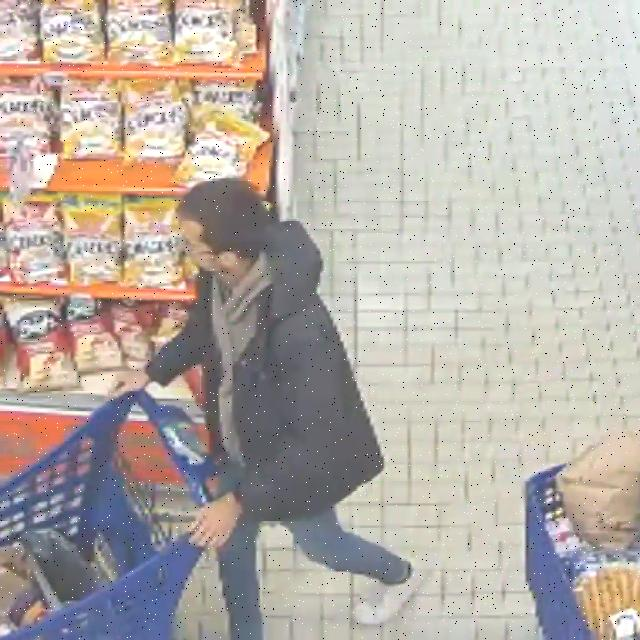hands: (191, 494, 241, 548), (110, 369, 149, 397)
person: (113, 179, 419, 639)
